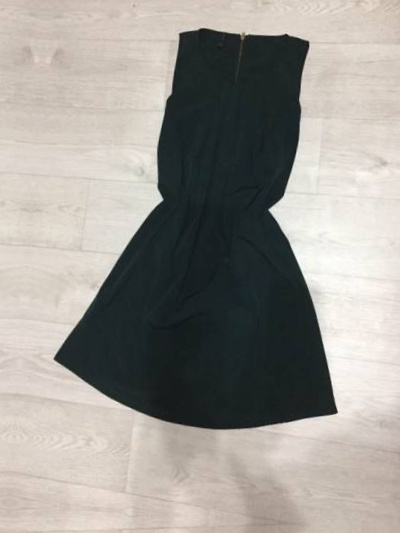Dress: (32, 4, 373, 447), (0, 0, 29, 421)
